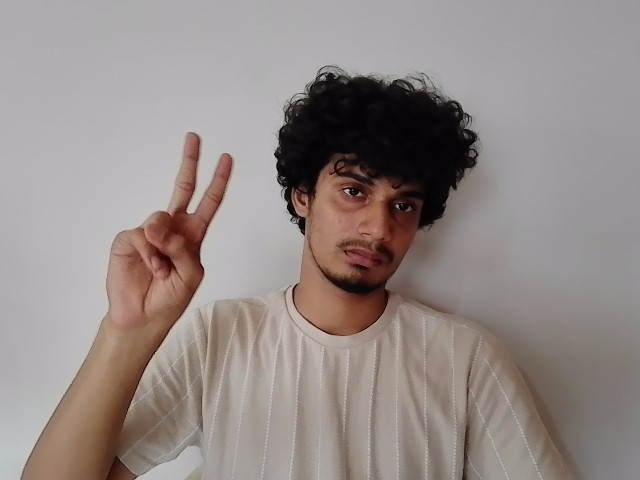travel: (107, 123, 236, 326)
